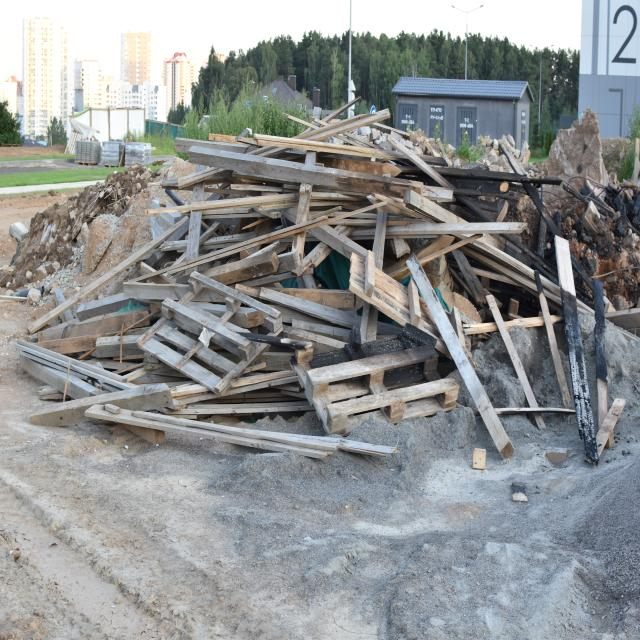entulho: (204, 98, 429, 427), (418, 144, 634, 440), (16, 266, 351, 452), (16, 344, 166, 402), (214, 146, 393, 192), (233, 181, 415, 215), (416, 169, 529, 223), (30, 387, 173, 428), (544, 106, 605, 196), (35, 306, 152, 350), (154, 236, 265, 279), (69, 114, 155, 168), (207, 280, 284, 332), (241, 211, 343, 249), (466, 237, 542, 288), (190, 142, 291, 180), (169, 193, 308, 216), (475, 134, 529, 172), (290, 183, 312, 268), (175, 326, 211, 372), (313, 95, 362, 126), (64, 115, 100, 155)
terra: (0, 165, 171, 291), (76, 163, 154, 227)
